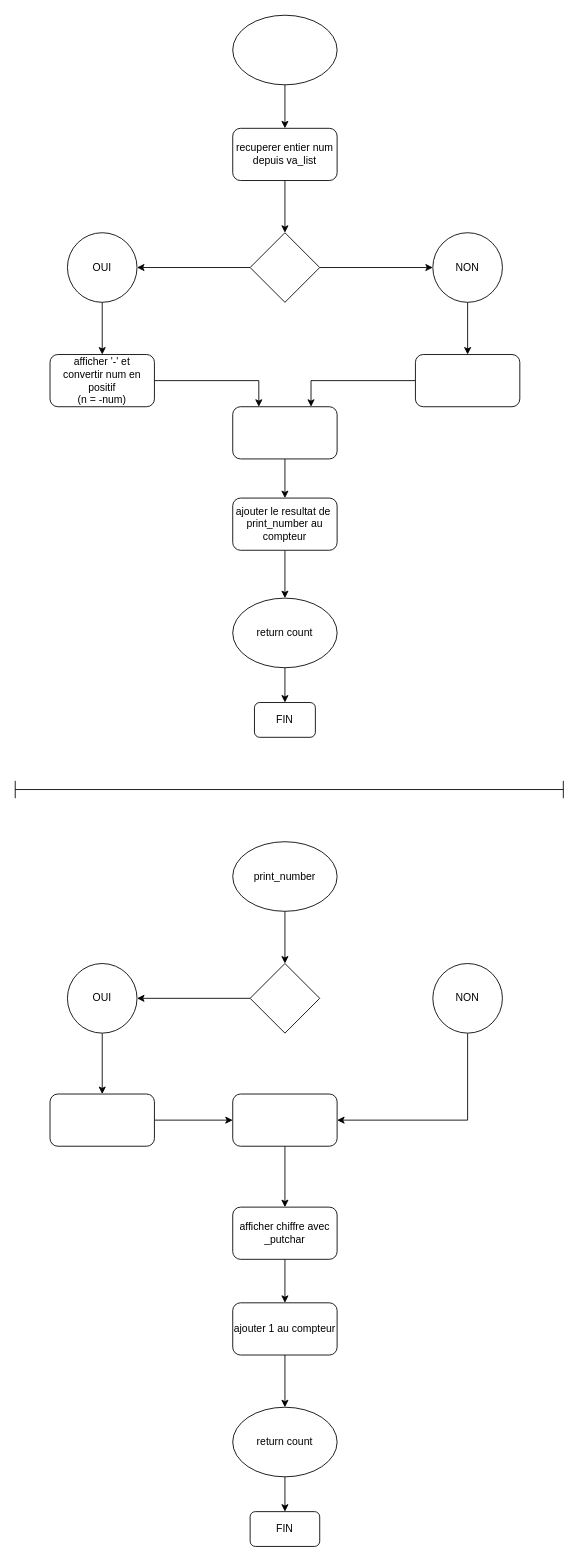
This 579x1562 diagram has some shape labels left out. The shapes that lost their labels are listed below. From the top down, each one's centre as x and y in pixels, then its label:
At point (284, 49): "print_int".
At point (284, 267): "num < 0 ?".
At point (467, 380): "assigner n = num directement".
At point (284, 432): "appeler print_number avec n".
At point (284, 998): "n / 10 > 0 ?".
At point (101, 1119): "appeler print_number(n / 10)".
At point (284, 1119): "extraire dernier chiffre avec n % 10".
